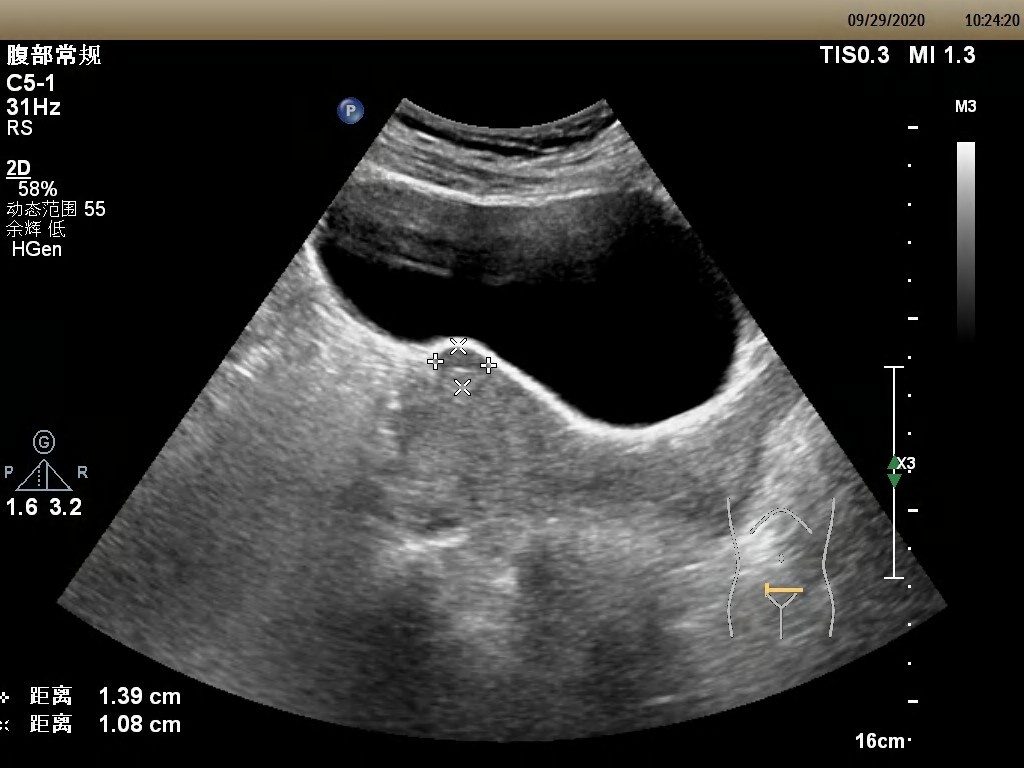肌瘤: (437, 352, 485, 378)
